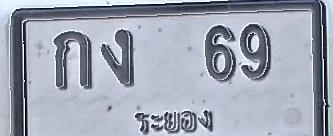6: (206, 24, 236, 82)
9: (240, 23, 271, 80)
A01: (53, 30, 92, 90)
A07: (101, 28, 134, 86)
RYG: (133, 105, 214, 136)
